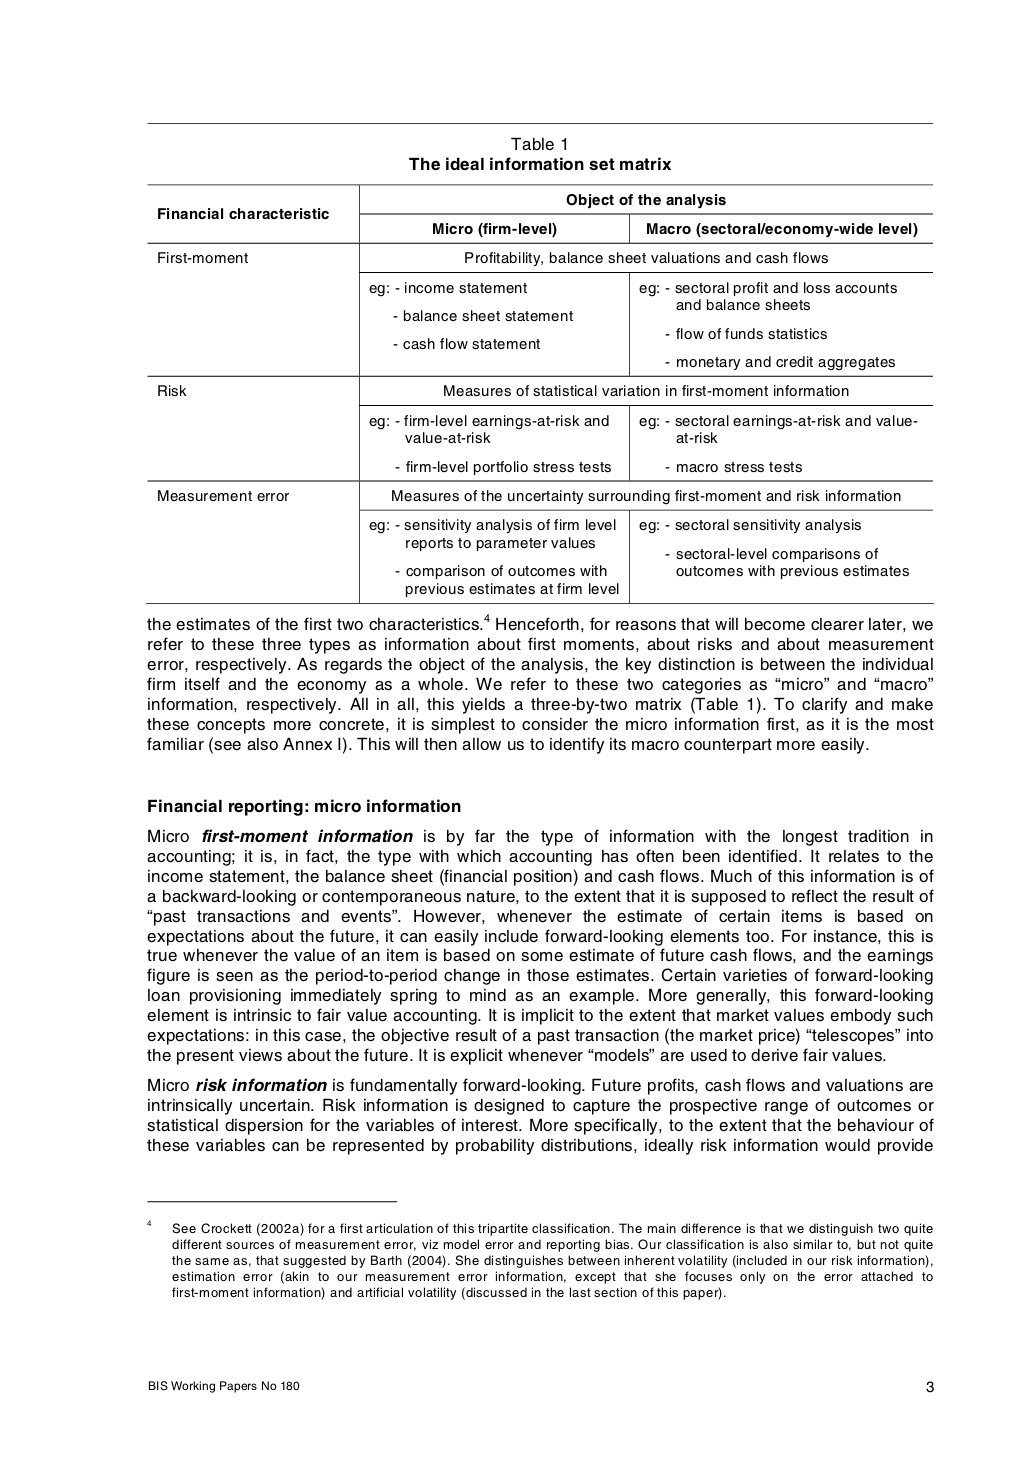Table: (146, 182, 933, 603)
